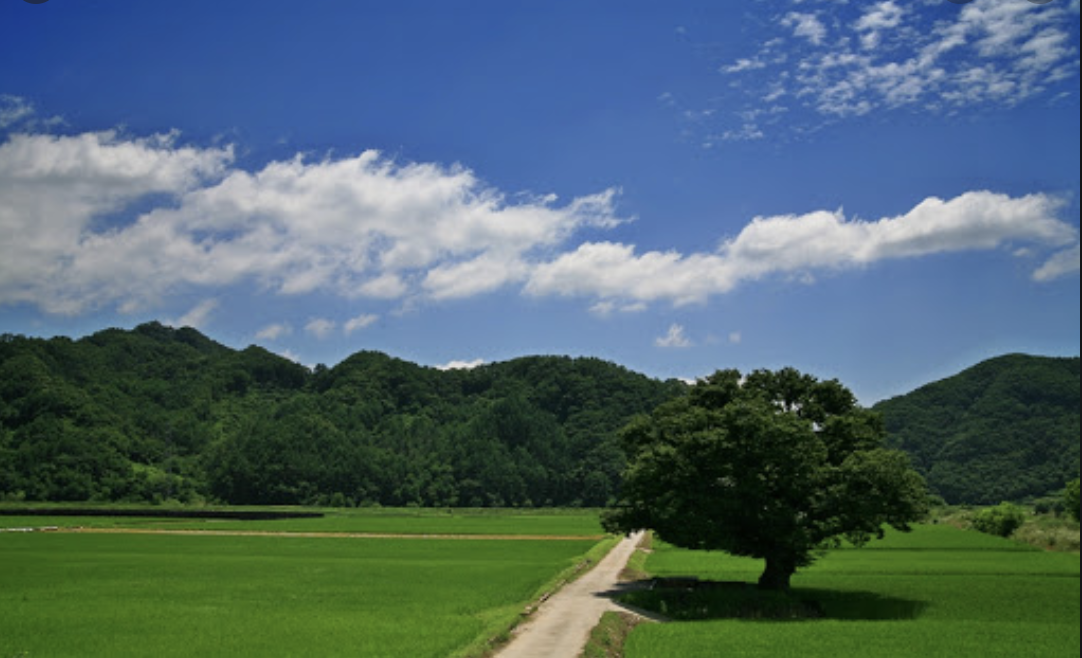field: (7, 499, 1072, 658)
mountain: (13, 329, 1081, 510)
sky: (6, 1, 1075, 350)
tree: (611, 361, 928, 611)
